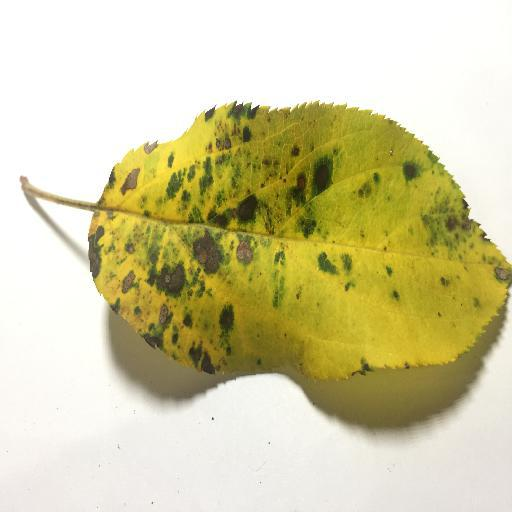Brown_Spot: (198, 237, 223, 272), (161, 304, 178, 337), (494, 261, 510, 295), (162, 267, 183, 292), (122, 168, 139, 197), (216, 304, 235, 329), (137, 138, 163, 155), (232, 245, 252, 264), (218, 128, 234, 149), (292, 174, 308, 192), (125, 270, 137, 293), (124, 234, 134, 254)
